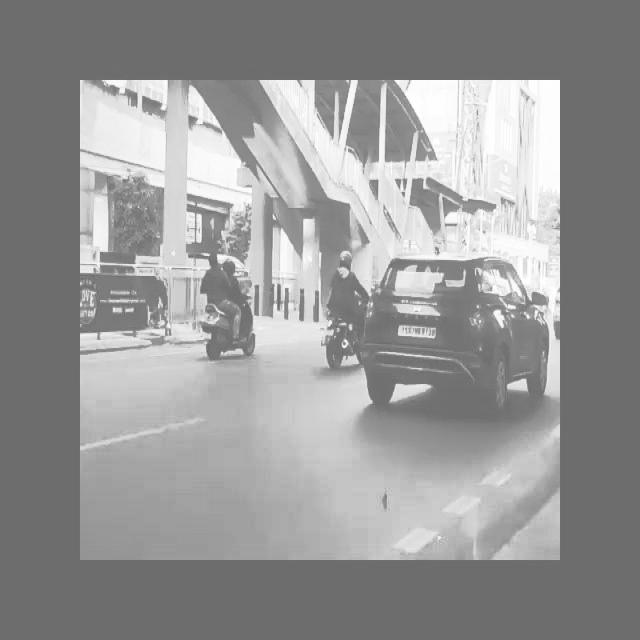Bike: (192, 244, 263, 358), (318, 245, 364, 372)
Car: (366, 244, 563, 436)
